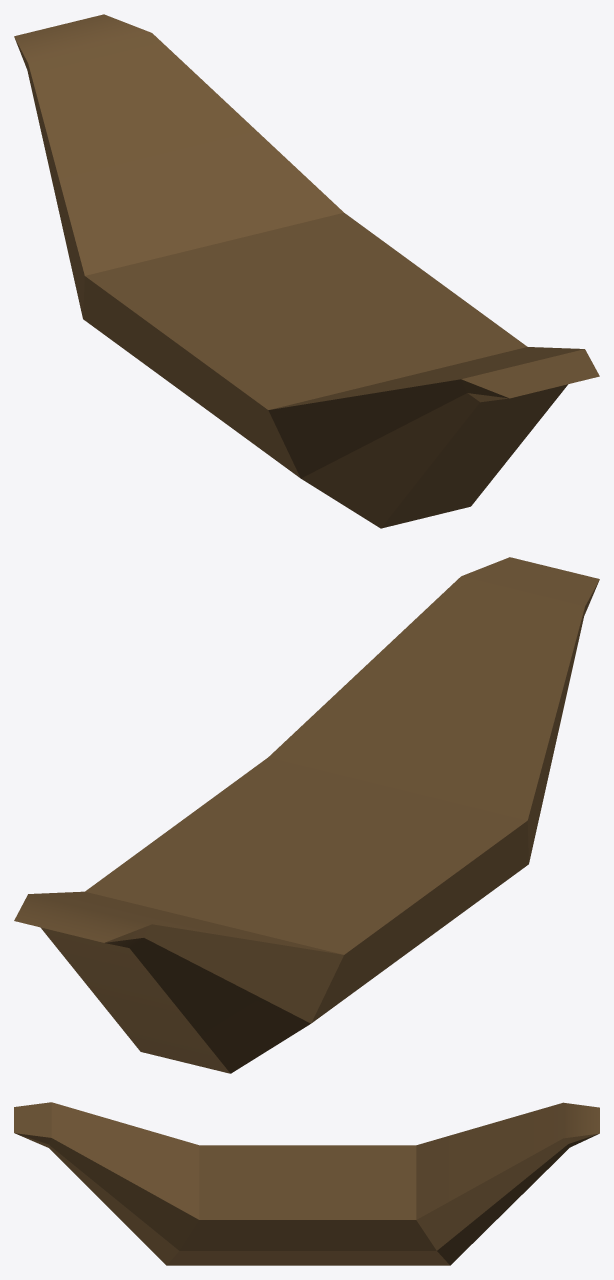
Rendered from Boat2.fbx.
3 views of the same model, one above another, from view 1: azimuth 30°, elevation 25°; view 2: azimuth 150°, elevation 25°; view 3: azimuth 270°, elevation 25° (orthographic). The views are drawn at different scales.
Parts seen in each view (by area): view 1: pTorus5; view 2: pTorus5; view 3: pTorus5.
Boxes of the visible parts, <box> form: pTorus5: <box>14,14,599,528</box>; pTorus5: <box>14,557,599,1073</box>; pTorus5: <box>14,1102,599,1265</box>.
Bounding box in the file's own units: 0.9848 × 0.815 × 3.26.
